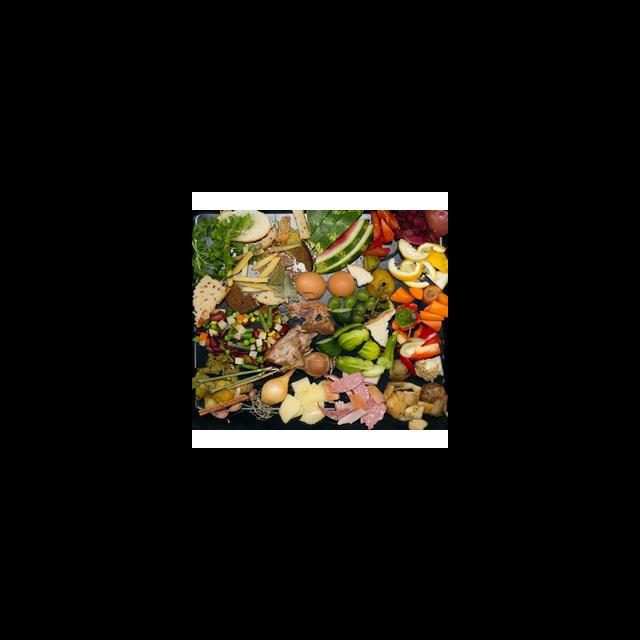food_waste: (192, 209, 447, 431)
